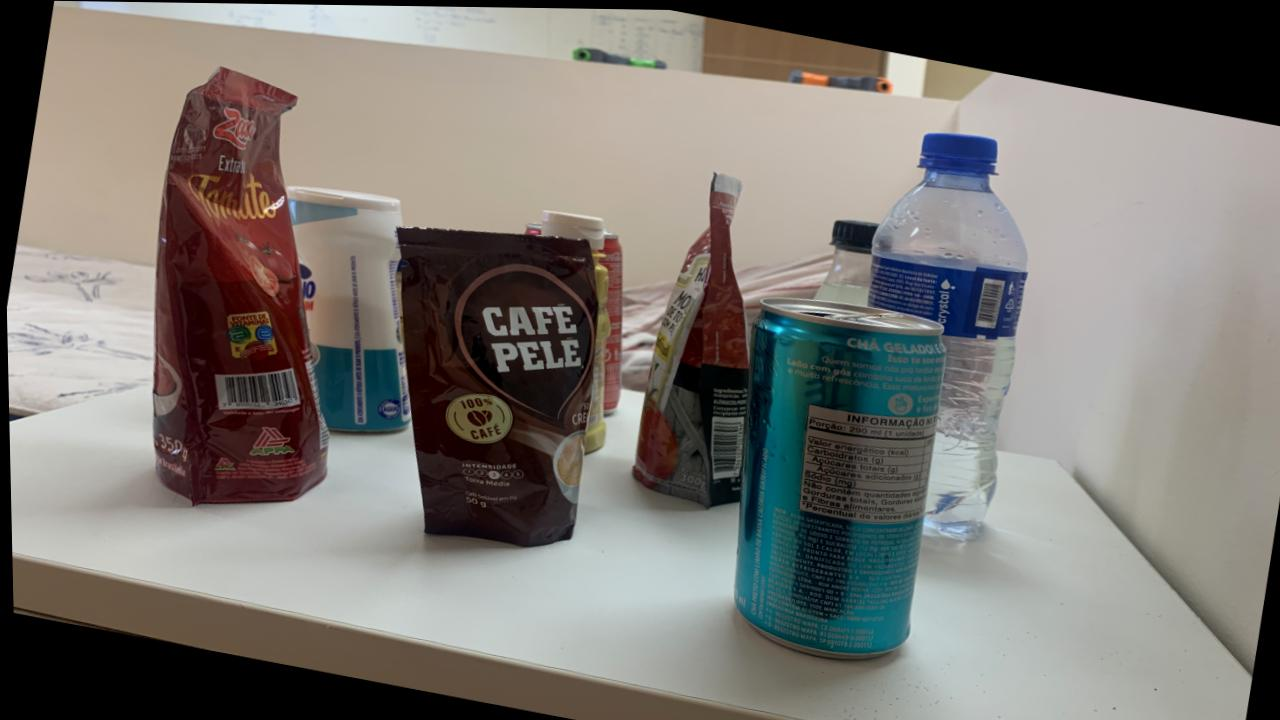Cleaner-Cleanup_Items: (285, 184, 409, 430)
Coffee-Pantry_Items: (395, 226, 596, 544)
Coke-Drinks: (597, 231, 622, 411)
Soda-Drinks: (813, 216, 878, 303)
Tea-Drinks: (730, 295, 944, 655)
Tomato_Sauce-Pantry_Items: (149, 67, 326, 502), (630, 170, 747, 504)
Water_Bottle-Drinks: (864, 129, 1026, 534)
